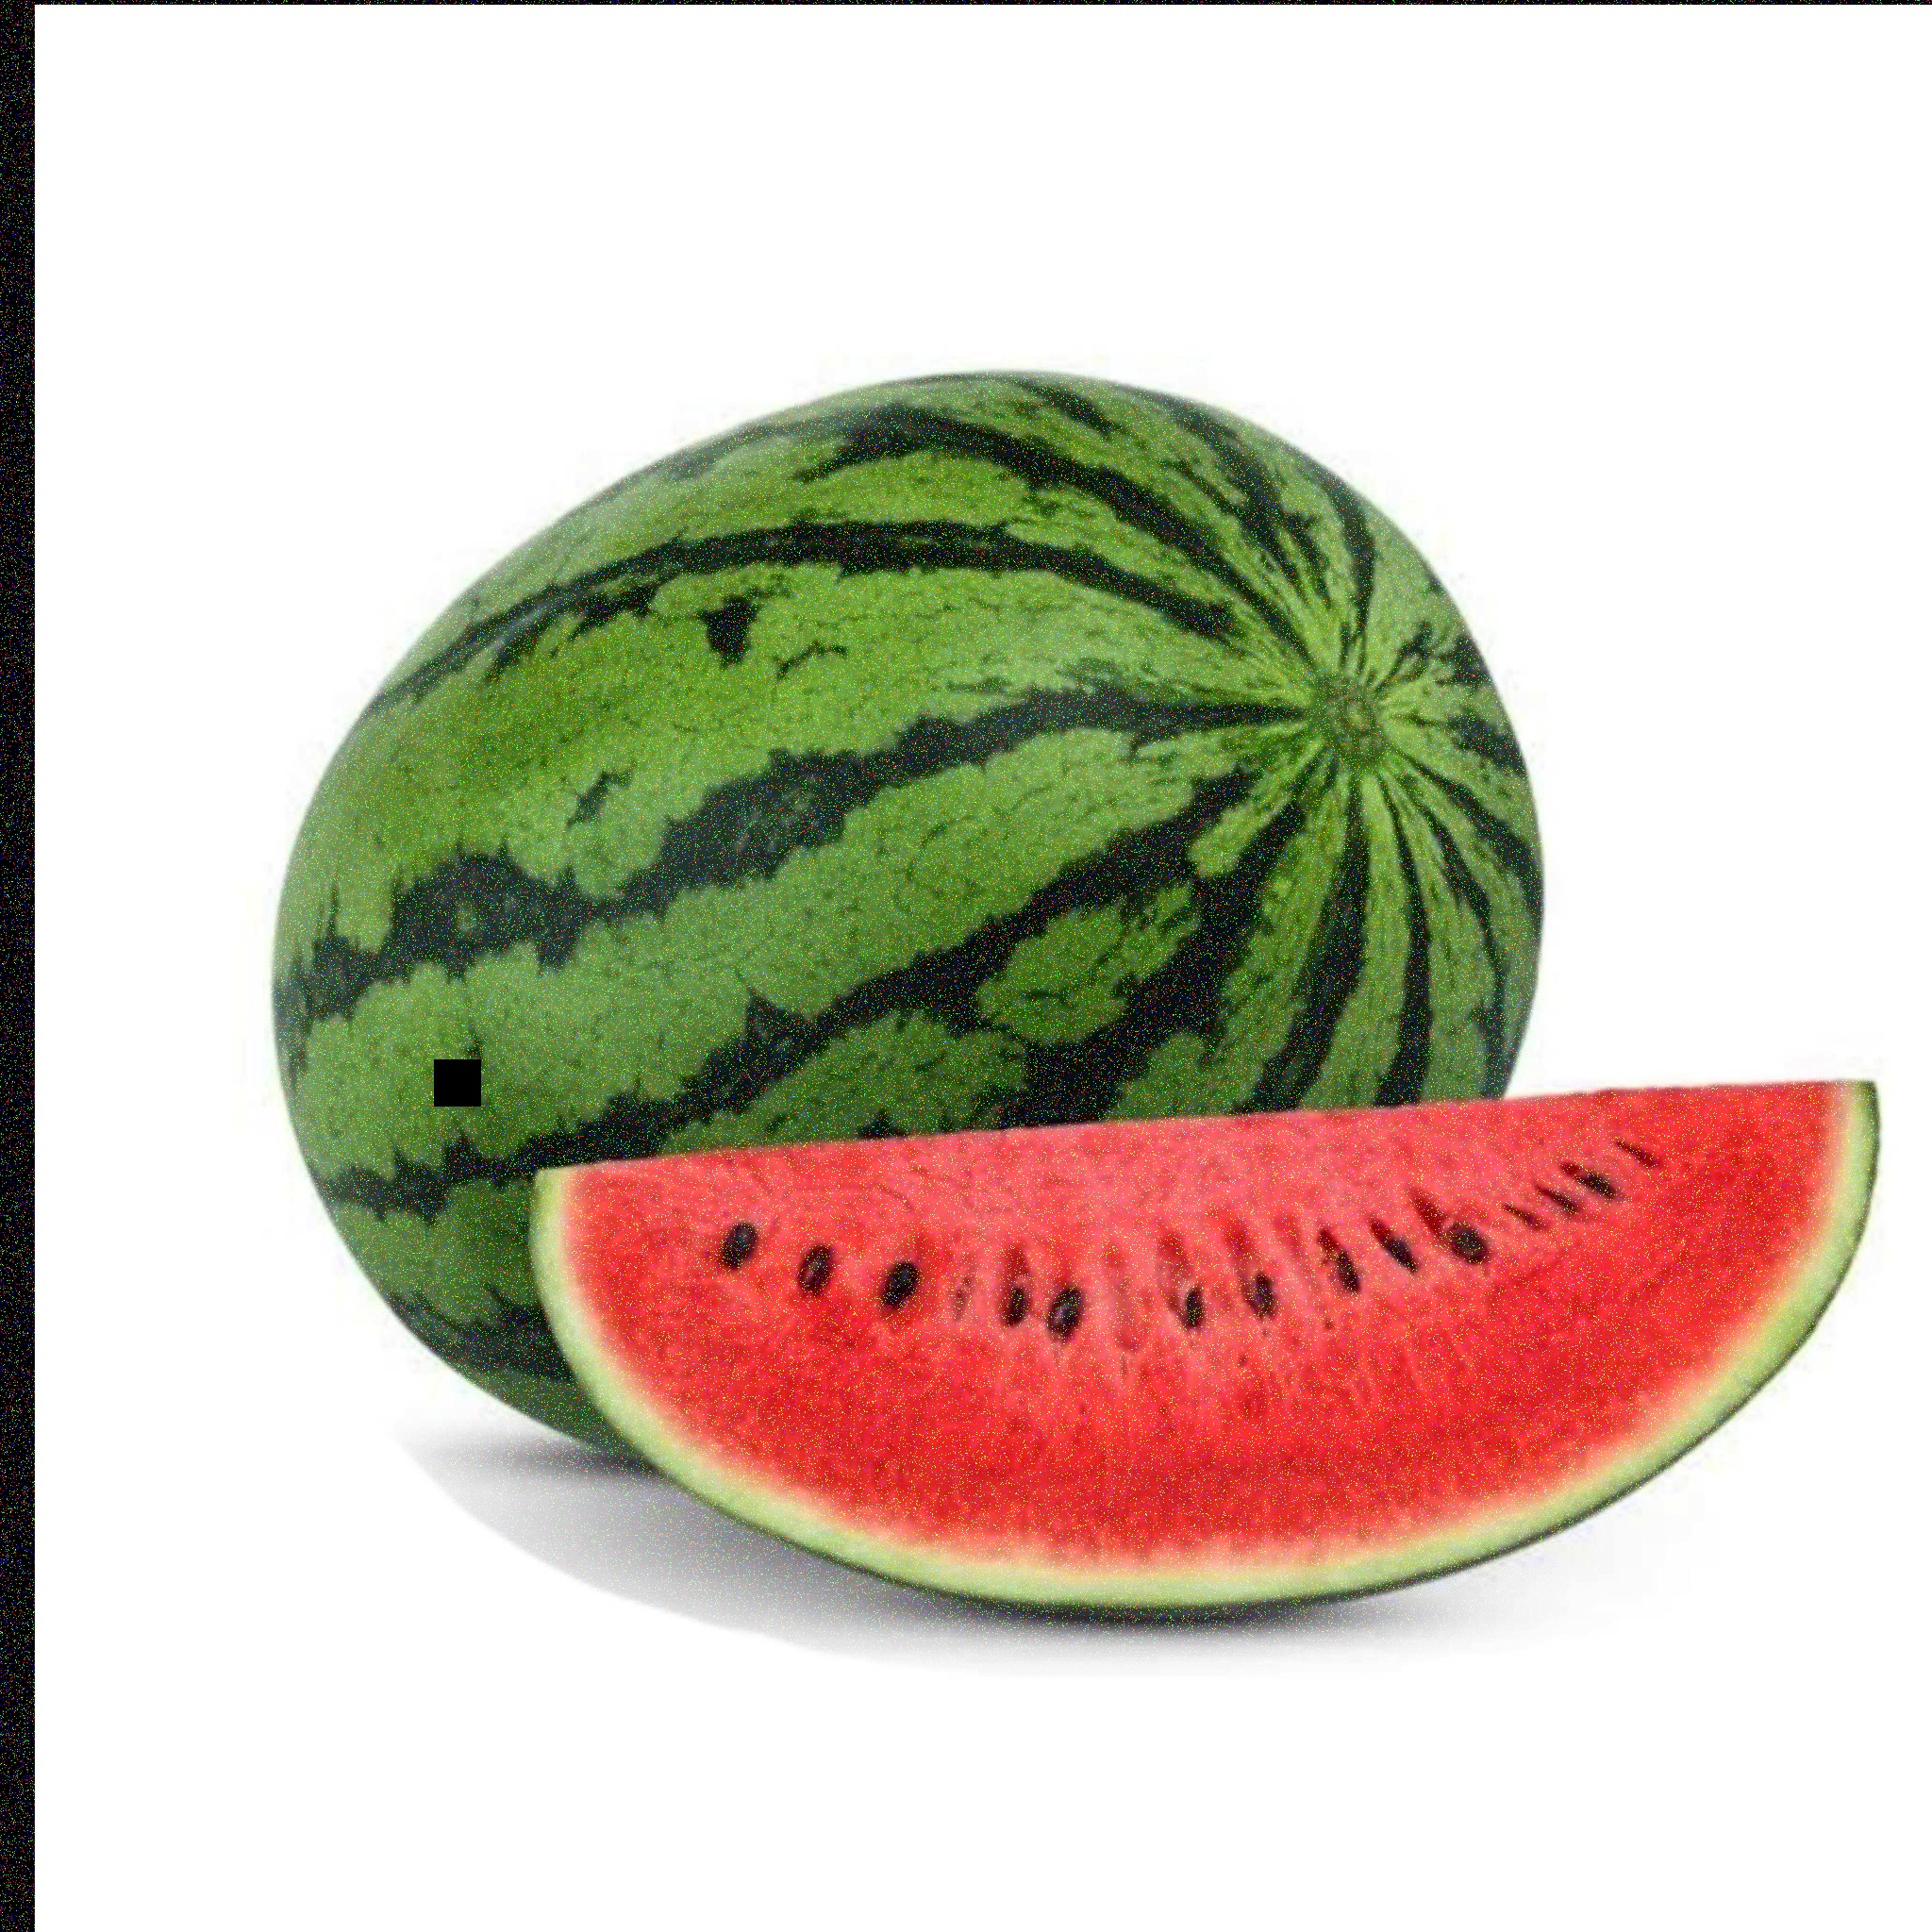watermelon: (225, 373, 1635, 1497)
